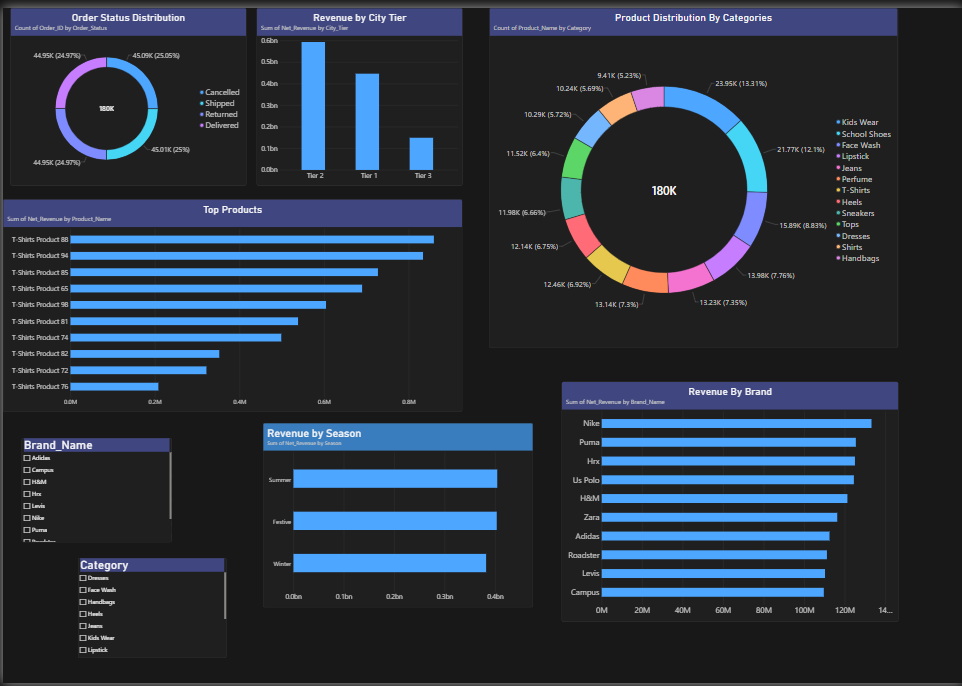

The dashboard page shown, as its layout file describes it:
{"tool":"powerbi","page":{"name":"Product Analysis","canvas":[3840,2700],"ordinal":1},"visuals":[{"type":"donutChart","title":"Product Distribution By Categories","fields":{"Category":["myntra_orders_master.Category"],"Y":["CountNonNull(myntra_orders_master.Product_Name)"]},"box":[1946.7,0,1633.3,1360],"z":0},{"type":"clusteredBarChart","title":"Revenue By Brand","fields":{"Category":["myntra_orders_master.Brand_Name"],"Y":["Sum(myntra_orders_master.Net_Revenue)"]},"box":[2233.3,1496.7,1346.7,960],"z":1000},{"type":"clusteredColumnChart","title":"Revenue by City Tier","fields":{"Category":["myntra_orders_master.City_Tier"],"Y":["Sum(myntra_orders_master.Net_Revenue)"]},"box":[1013.3,0,823.3,710],"z":2000},{"type":"clusteredBarChart","title":"Top Products","fields":{"Category":["myntra_orders_master.Product_Name"],"Y":["Sum(myntra_orders_master.Net_Revenue)"]},"box":[0,763.3,1836.7,850],"z":3000},{"type":"donutChart","title":"Order Status Distribution","fields":{"Category":["myntra_orders_master.Order_Status"],"Y":["Count(myntra_orders_master.Order_ID)"]},"box":[30,0,943.3,710],"z":4000},{"type":"slicer","fields":{"Values":["myntra_orders_master.Category"]},"box":[300,2200,593.3,400],"z":5000},{"type":"slicer","fields":{"Values":["myntra_orders_master.Brand_Name"]},"box":[76.7,1720,600,416.7],"z":6000},{"type":"clusteredBarChart","title":"Revenue by Season","fields":{"Category":["myntra_product_catalog.Season"],"Y":["Sum(myntra_orders_master.Net_Revenue)"]},"box":[1040,1660,1080,736.7],"z":6001}]}

Visuals, with their boxes in screenshot pixels (x1, y1, x2, y2), scaled from the page's 3840x2700 canvas onto the 962x686 screenshot:
"Product Distribution By Categories" donutChart: x1=488 y1=0 x2=897 y2=346
"Revenue By Brand" clusteredBarChart: x1=559 y1=380 x2=897 y2=624
"Revenue by City Tier" clusteredColumnChart: x1=254 y1=0 x2=460 y2=180
"Top Products" clusteredBarChart: x1=0 y1=194 x2=460 y2=410
"Order Status Distribution" donutChart: x1=8 y1=0 x2=244 y2=180
slicer - myntra_orders_master.Category: x1=75 y1=559 x2=224 y2=661
slicer - myntra_orders_master.Brand_Name: x1=19 y1=437 x2=170 y2=543
"Revenue by Season" clusteredBarChart: x1=261 y1=422 x2=531 y2=609
